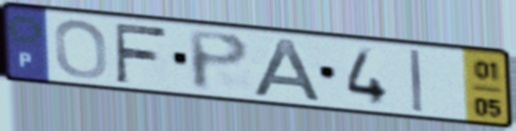4: (344, 46, 392, 108)
A: (249, 35, 327, 105)
F: (110, 20, 169, 85)
I: (407, 47, 426, 115)
O: (52, 17, 111, 81)
P: (185, 28, 253, 94)
